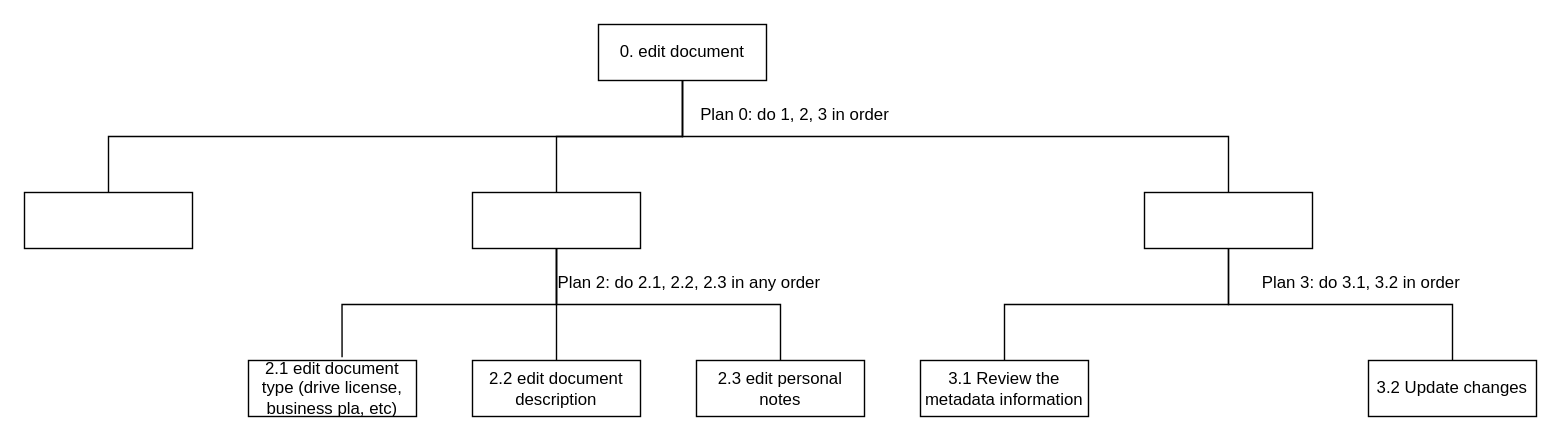
This 1561x442 diagram has some shape labels left out. Here are the shapes that lost their labels. From the top down, the centre of each, then its label:
At pixel 107 219: "1. Select the document to edit".
At pixel 555 219: "2. Fill metadata information".
At pixel 1227 219: "3. Save the document".
